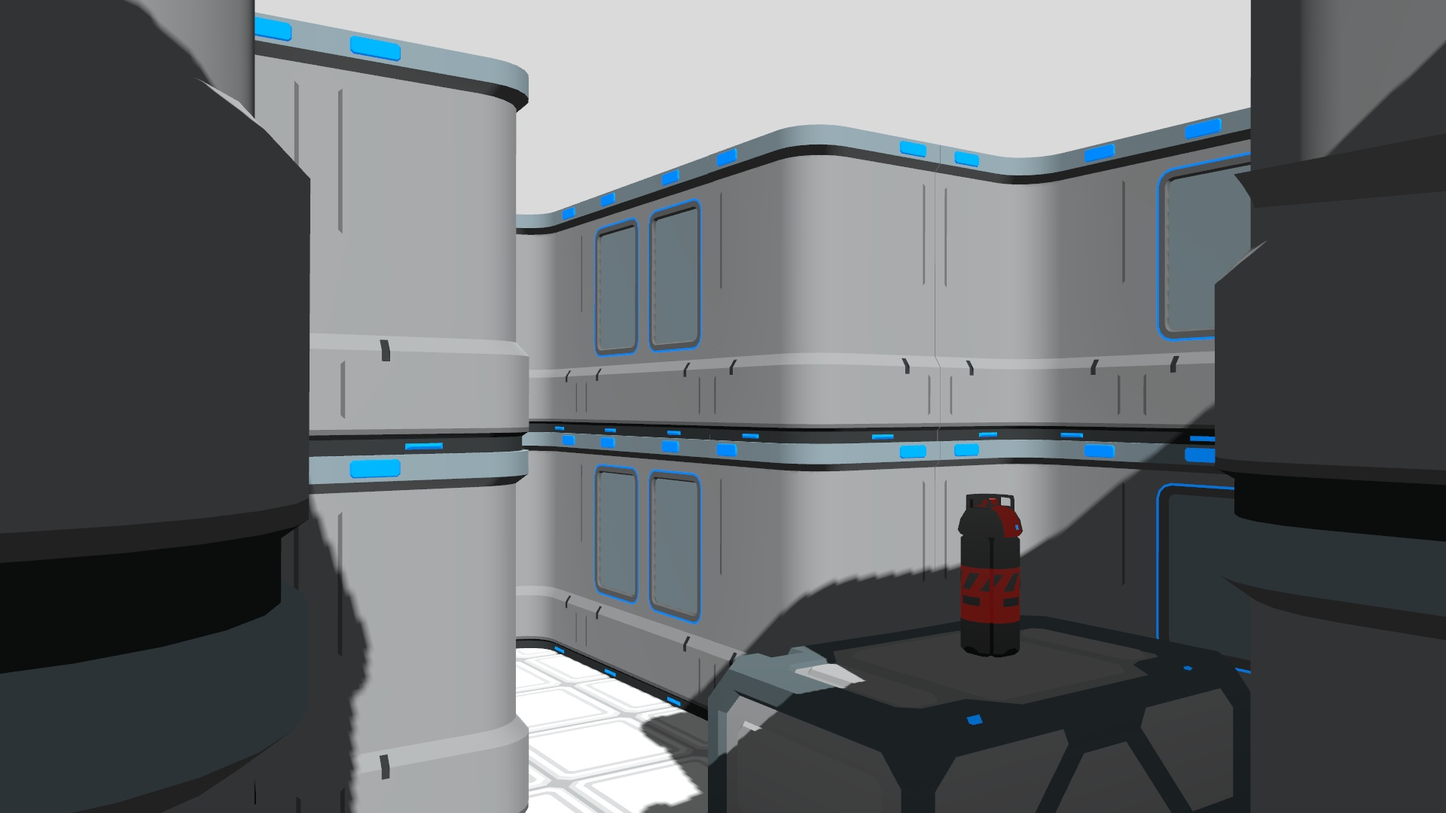red_barrel: (954, 488, 1034, 663)
